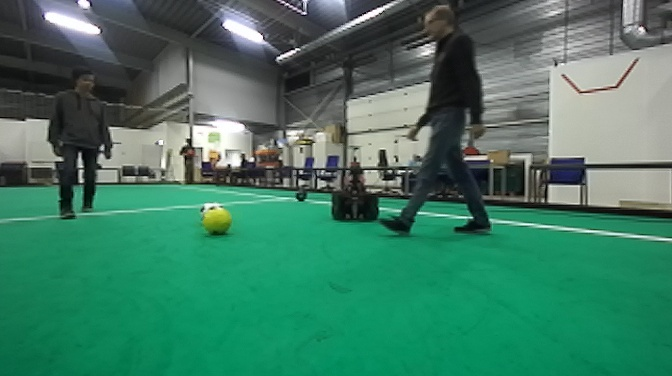ball: (204, 208, 231, 234), (294, 186, 308, 202)
human: (387, 5, 498, 238), (40, 66, 115, 221)
robot: (328, 145, 382, 225)
